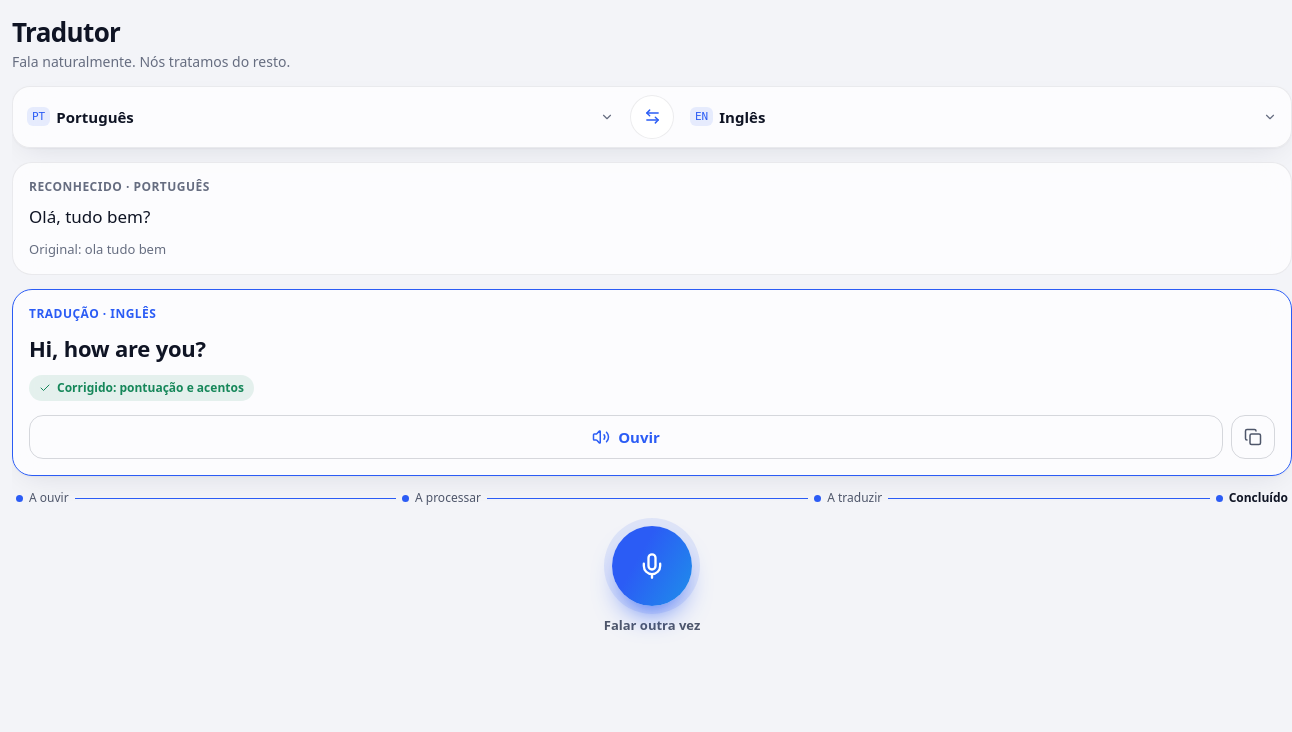
Test case: TranslatePage — result › "Ouvir" toggles speak/stopSpeaking with aria-pressed; TTS failures become a toast
The image size is (1292, 732).
Click the button "Ouvir".
click(626, 437)  # box 29,415 -> 1223,459
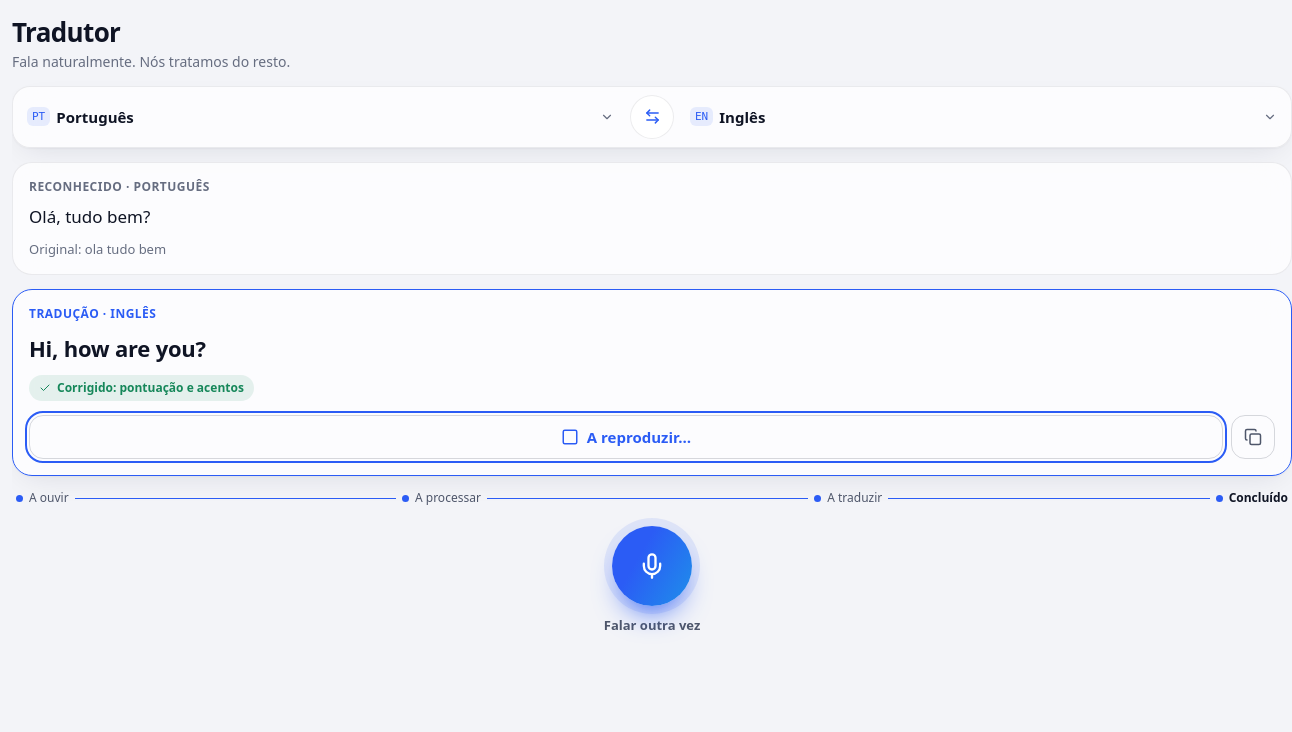
Result: the button "A reproduzir…" is pressed
Click the button "A reproduzir…".
click(626, 437)  # box 29,415 -> 1223,459
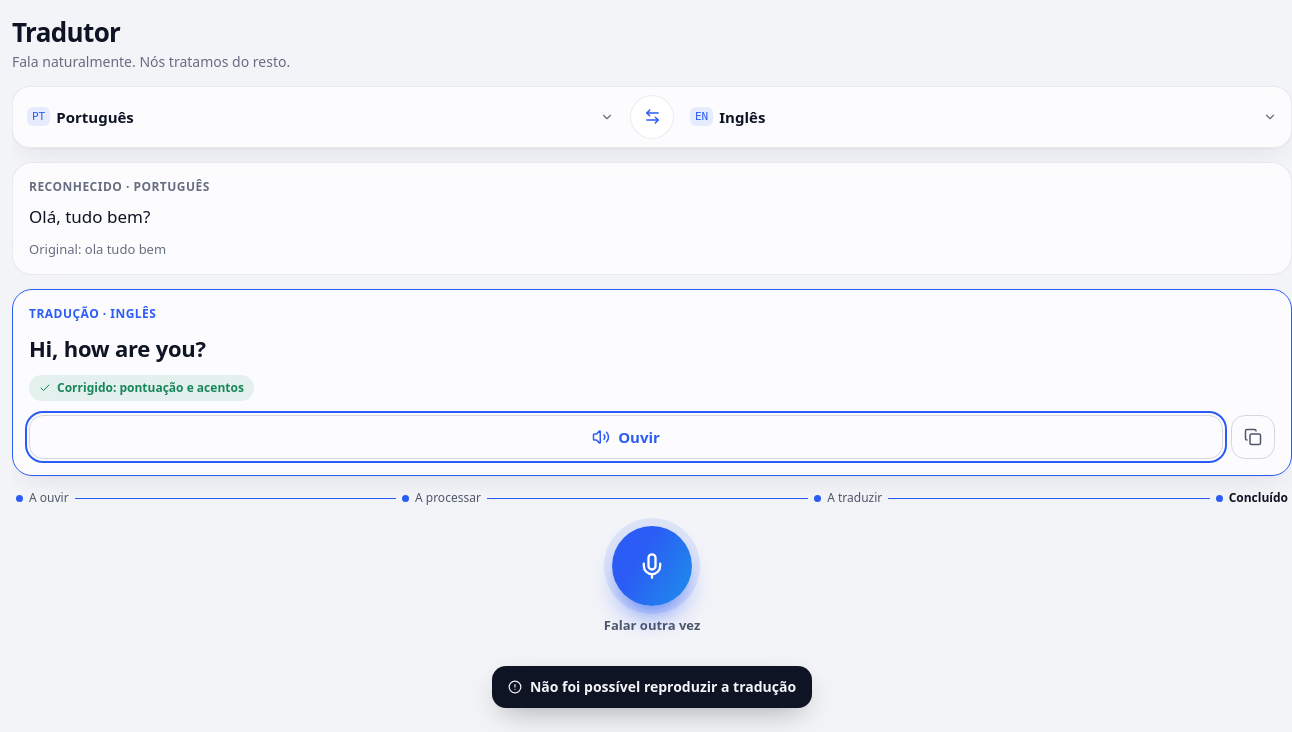
Result: the text "Não foi possível reproduzir a tradução" is shown at 530,677 -> 796,697
